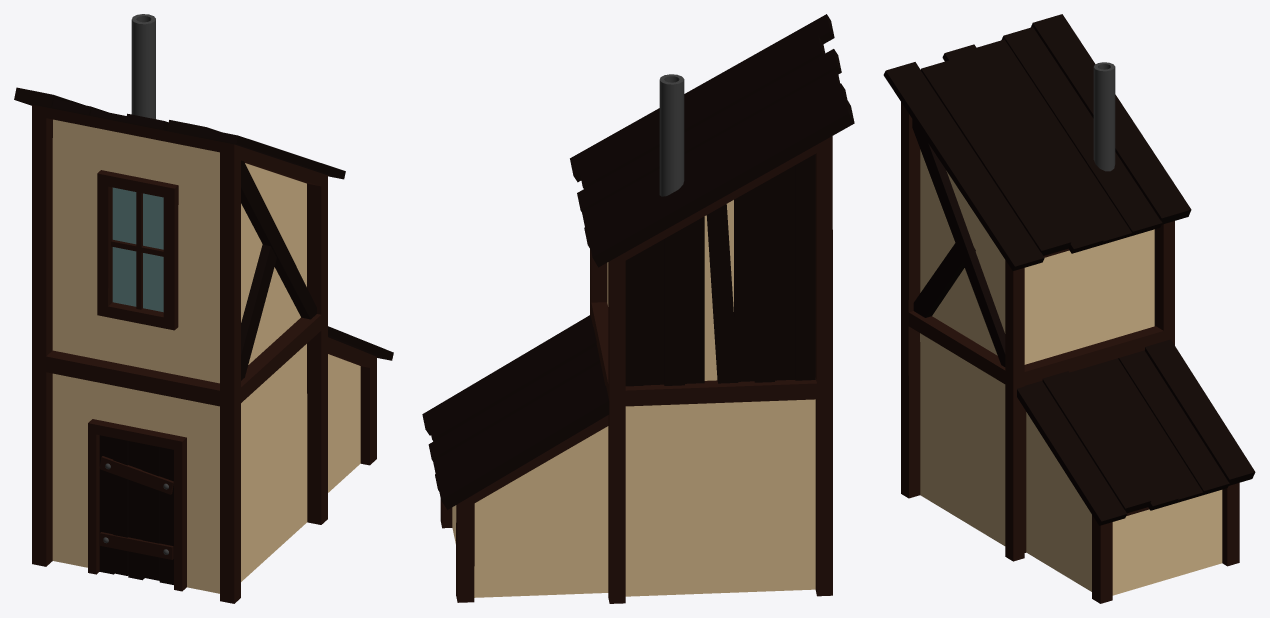
Rendered from generic house 3.FBX.
The picture shows the model from 3 angles, left to right: view 1: azimuth 30°, elevation 25°; view 2: azimuth 150°, elevation 25°; view 3: azimuth 270°, elevation 25°; orthographic projection. The views are drawn at different scales.
Parts seen in each view (by area): view 1: Box097; view 2: Box097; view 3: Box097.
Part boxes in pixels (x1,y1,x2,y2): Box097: (14, 14, 393, 603); Box097: (422, 14, 854, 603); Box097: (883, 14, 1255, 603).
Size of the model in its own units: 164 by 192 by 148.
